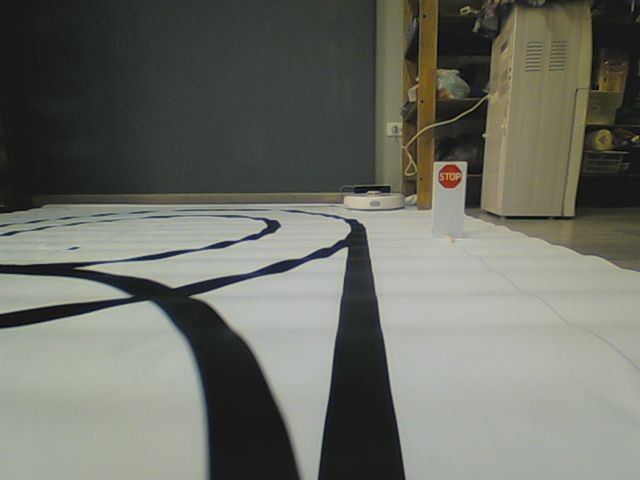Stop: (437, 163, 464, 191)
